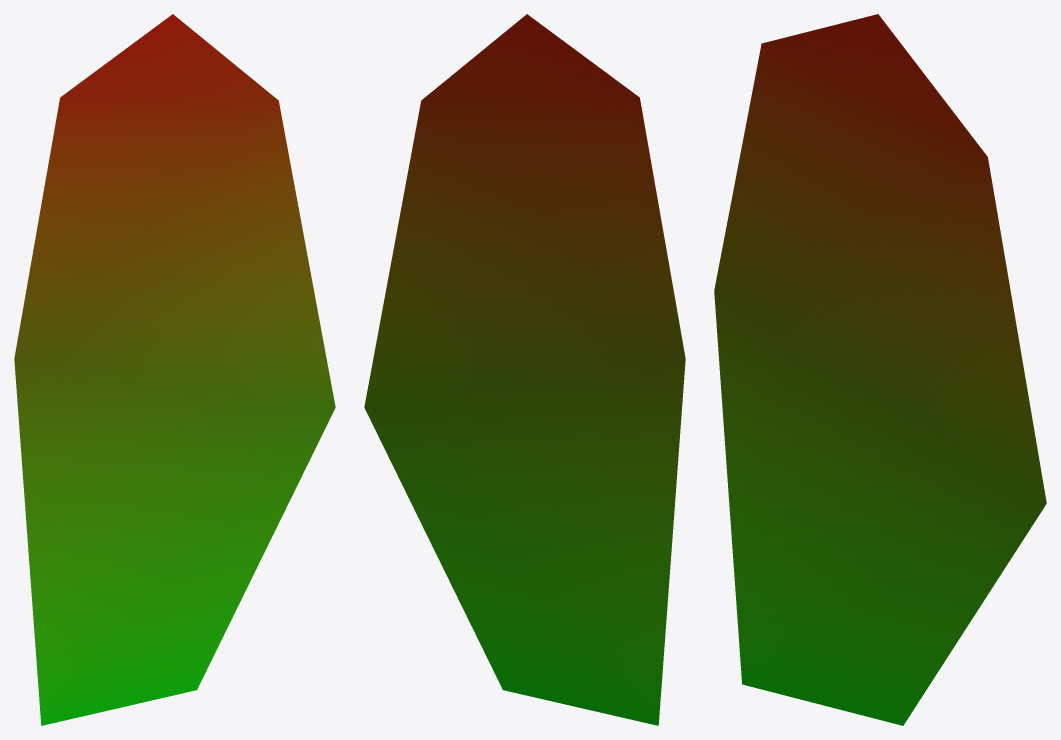
File: Rubber Bush_LOD7_Var9_xffhfekia.fbx
The picture shows the model from 3 angles, left to right: view 1: azimuth 30°, elevation 25°; view 2: azimuth 150°, elevation 25°; view 3: azimuth 330°, elevation 25°; orthographic projection. The views are drawn at different scales.
Parts seen in each view (by area): view 1: _7ppe_Var9_LOD7; view 2: _7ppe_Var9_LOD7; view 3: _7ppe_Var9_LOD7.
Boxes of the visible parts, left/top/right/bottom form: _7ppe_Var9_LOD7: left=14, top=14, right=335, bottom=725; _7ppe_Var9_LOD7: left=364, top=14, right=685, bottom=725; _7ppe_Var9_LOD7: left=714, top=14, right=1046, bottom=725.
Size of the model in its own units: 22.8 by 46.24 by 1.35e-05.
